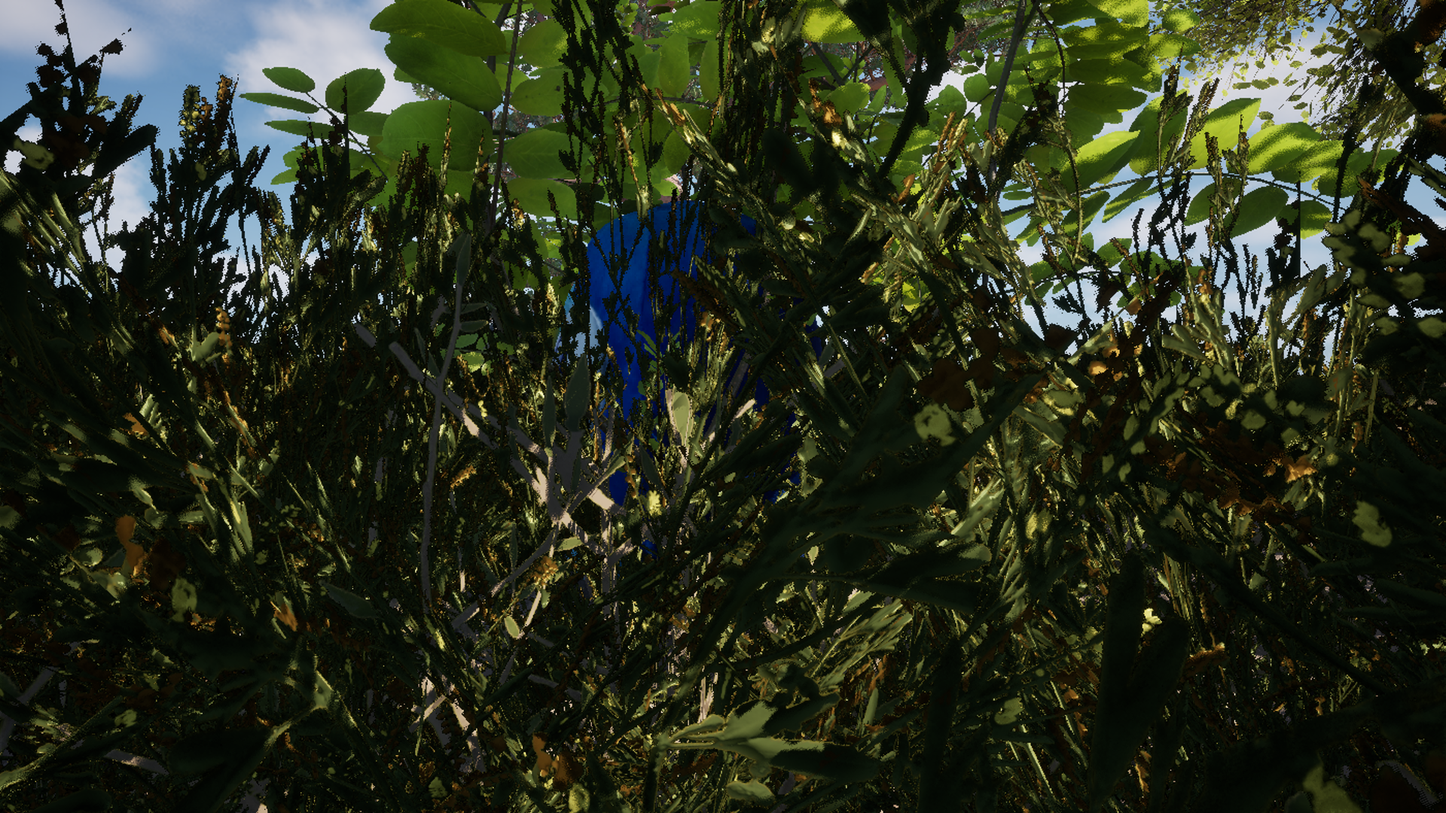Piplup: (395, 0, 982, 813)
